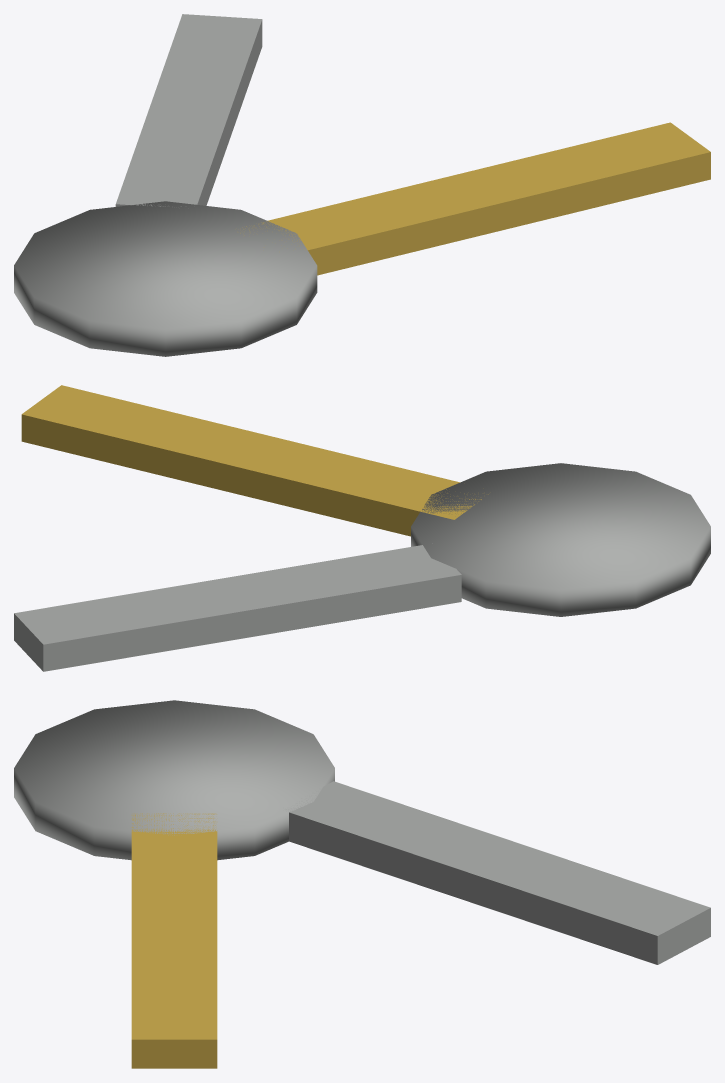
File: keys.glb
3 views of the same model, one above another, from view 1: azimuth 30°, elevation 25°; view 2: azimuth 150°, elevation 25°; view 3: azimuth 270°, elevation 25° (orthographic). The views are drawn at different scales.
Visible parts, largest first — view 1: Item; view 2: Item; view 3: Item.
Boxes of the visible parts, x1=… form: Item: x1=14, y1=14, x2=710, y2=356; Item: x1=14, y1=385, x2=710, y2=671; Item: x1=14, y1=700, x2=710, y2=1068.
Size of the model in its own units: 0.075 by 0.003 by 0.0651.
